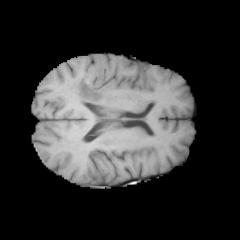glioma: (69, 55, 127, 103)
